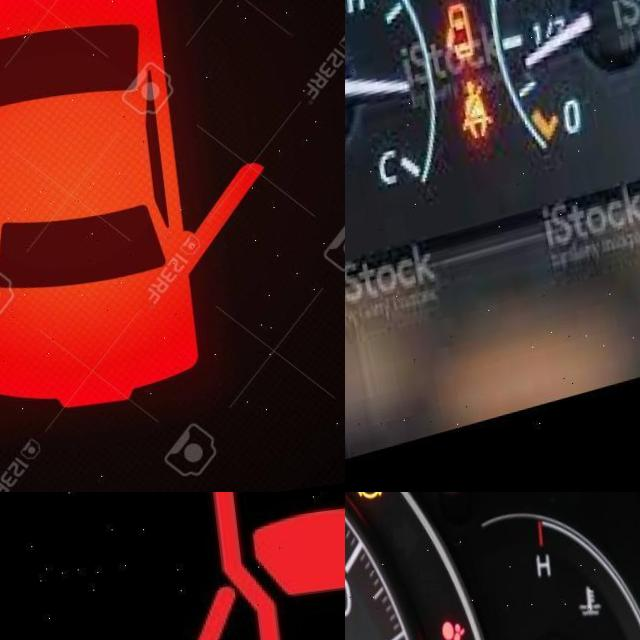Seat Belt: (450, 87, 491, 152)
